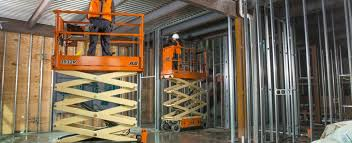Scissor Lift: (50, 8, 150, 143), (161, 44, 209, 134)
